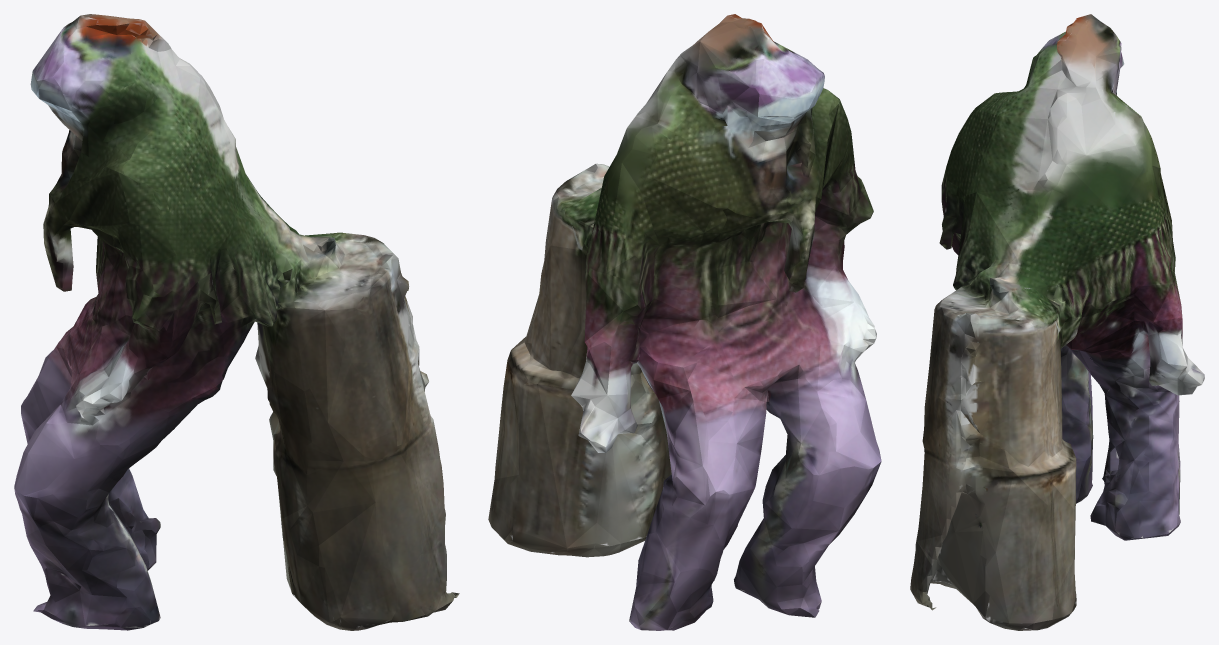
Rendered from kakashi_03b.fbx.
The picture shows the model from 3 angles, left to right: view 1: azimuth 30°, elevation 25°; view 2: azimuth 150°, elevation 25°; view 3: azimuth 270°, elevation 25°; orthographic projection. The views are drawn at different scales.
Parts seen in each view (by area): view 1: kakashi_03:Mesh; view 2: kakashi_03:Mesh; view 3: kakashi_03:Mesh.
Boxes of the visible parts, x1,y1,x2,y2 form: kakashi_03:Mesh: (14,14,459,630); kakashi_03:Mesh: (488,14,881,630); kakashi_03:Mesh: (910,14,1204,630).
Size of the model in its own units: 14.93 by 21.63 by 11.52.
Materials: 1 (1 with a texture image).
